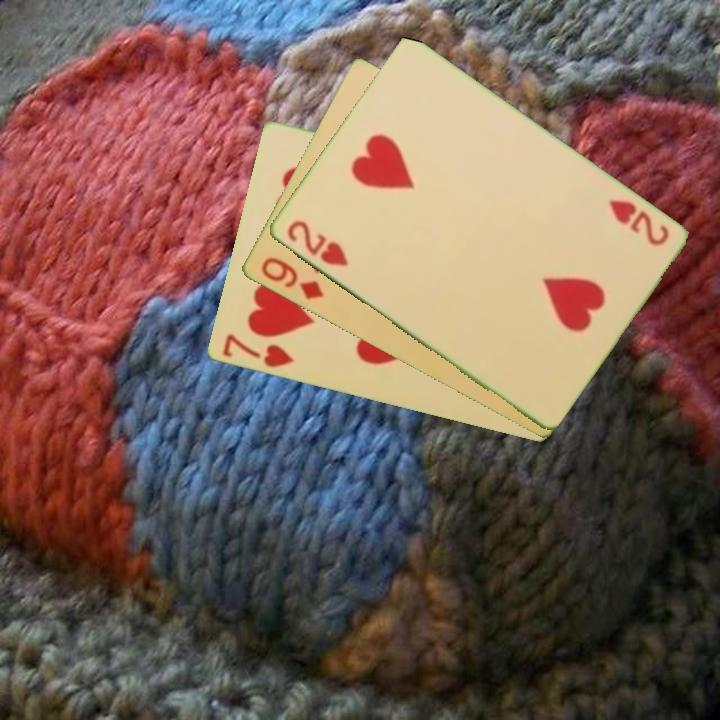2h: (282, 216, 351, 270), (605, 196, 672, 249)
7h: (218, 331, 297, 371)
9d: (257, 253, 327, 303)
